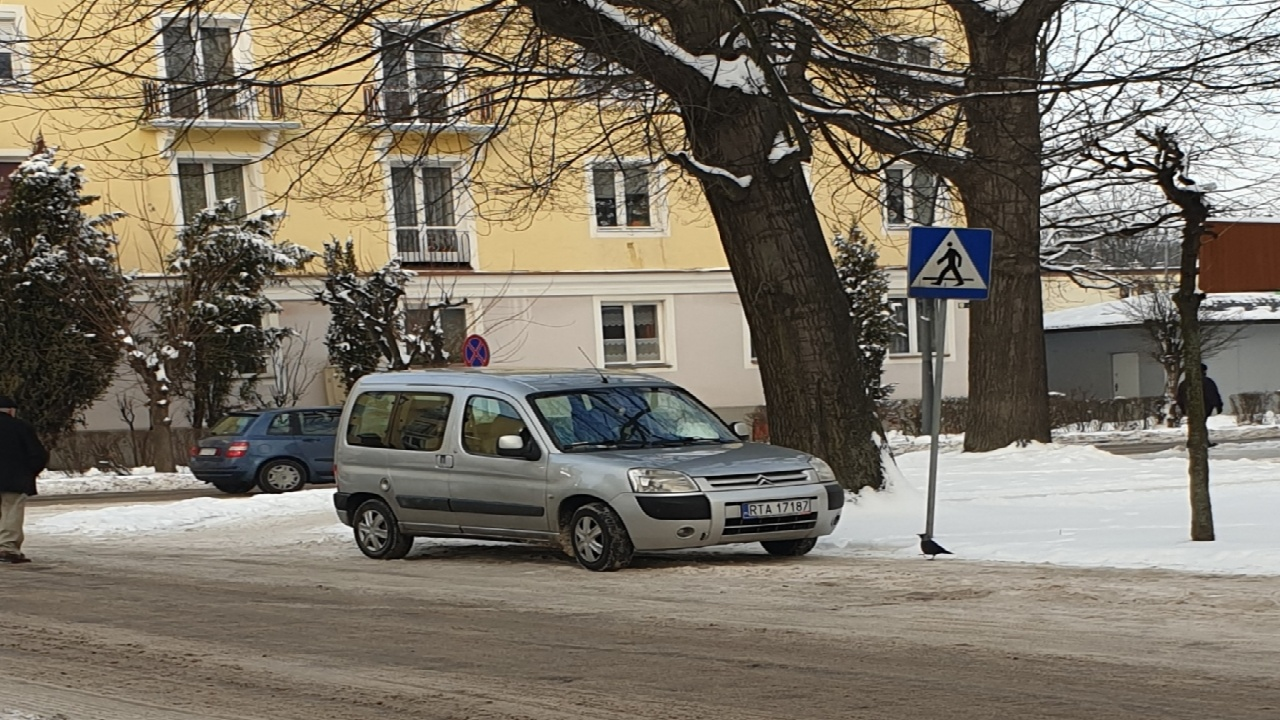B35: (457, 331, 494, 370)
D6: (900, 223, 1001, 306)
